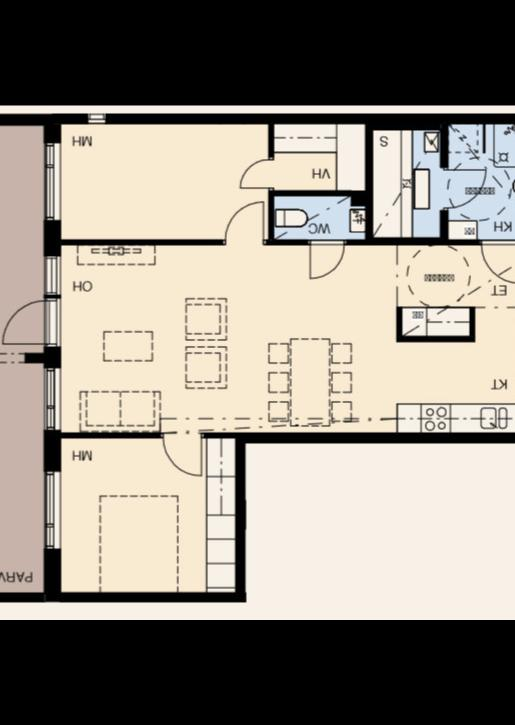door: (0, 297, 62, 349), (430, 161, 490, 213), (219, 196, 266, 252), (160, 430, 208, 478), (303, 236, 350, 282), (478, 235, 515, 286), (237, 156, 277, 194)
window: (38, 462, 62, 556), (38, 134, 62, 224), (39, 362, 64, 435), (42, 254, 60, 296), (88, 109, 110, 128)
